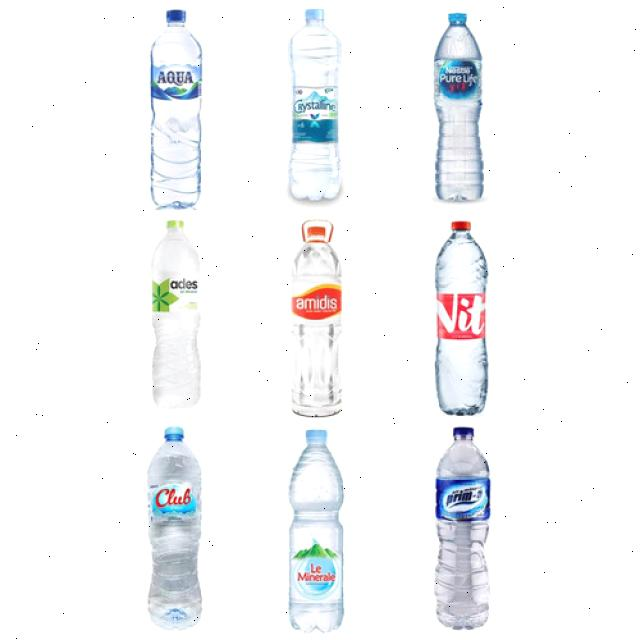Plastic: (0, 4, 398, 210), (278, 5, 349, 206), (428, 219, 498, 418), (430, 424, 496, 630), (146, 214, 211, 413), (288, 424, 347, 634), (429, 7, 488, 204), (288, 219, 346, 418), (149, 426, 206, 627)
